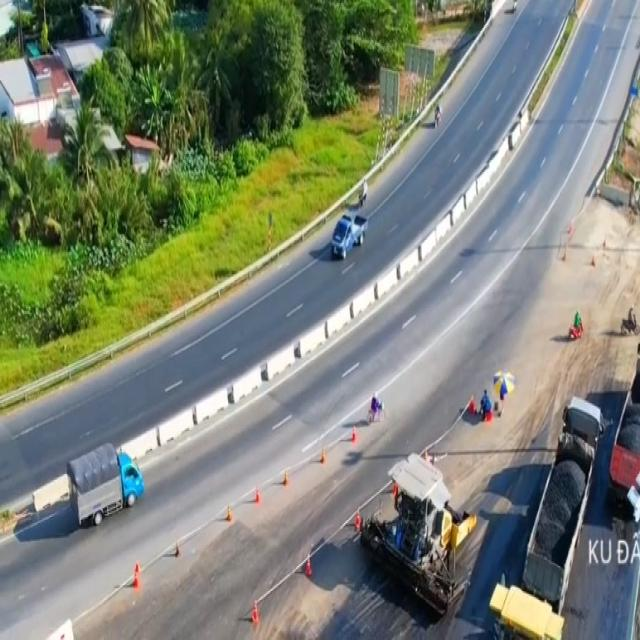motorbike: (619, 302, 638, 337), (568, 313, 584, 340)
truck: (68, 442, 143, 520), (329, 207, 365, 263)
